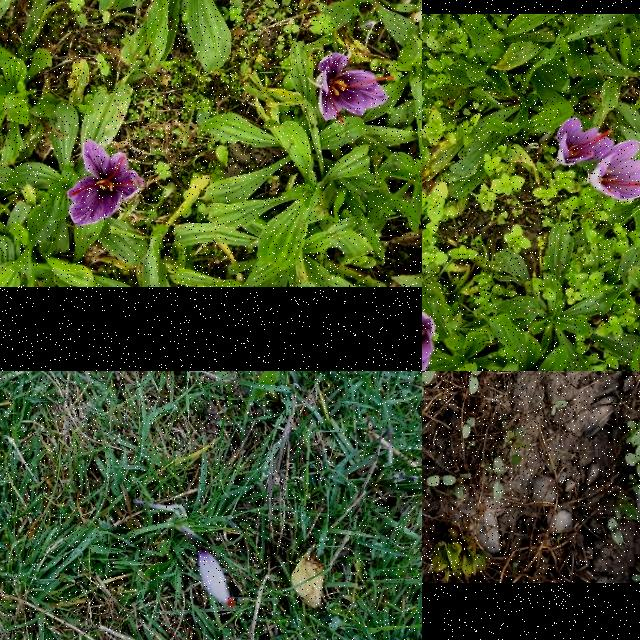flower: (68, 142, 144, 226), (318, 53, 394, 125), (589, 139, 640, 201), (556, 116, 614, 166), (198, 548, 235, 608)
